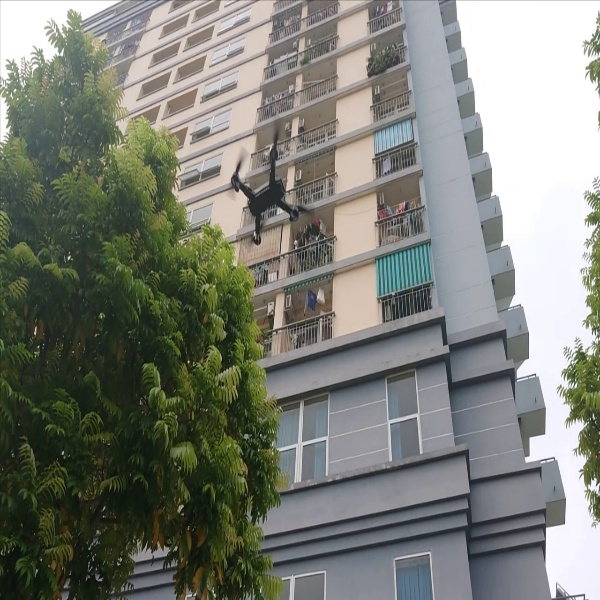drone: (222, 122, 315, 249)
